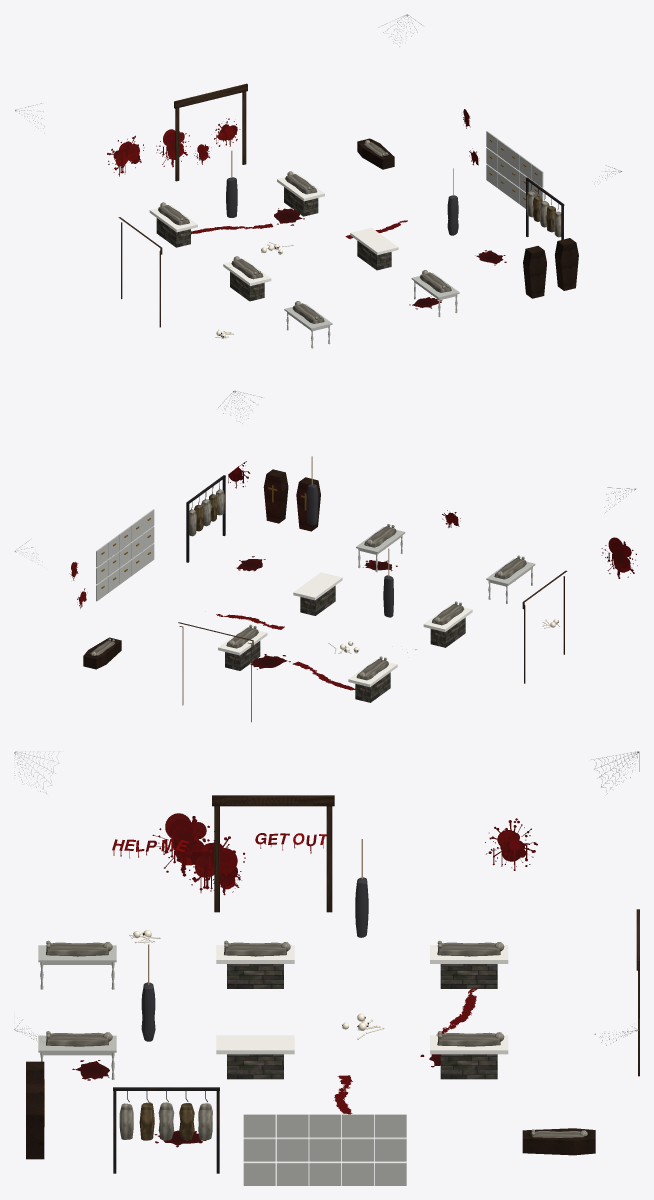
Rendered from dark_morgue_v13.glb.
The picture shows the model from 3 angles, top to bottom: view 1: azimuth 30°, elevation 25°; view 2: azimuth 150°, elevation 25°; view 3: azimuth 270°, elevation 25°; orthographic projection. The views are drawn at different scales.
Visible parts, largest first — view 1: dark_morgue; view 2: dark_morgue; view 3: dark_morgue.
Part boxes in pixels (bbox=[...]): dark_morgue: bbox=[14, 14, 621, 348]; dark_morgue: bbox=[14, 390, 637, 722]; dark_morgue: bbox=[14, 751, 639, 1185].
Size of the model in its own units: 19.53 by 5.02 by 17.59.
24 materials, 18 textured.
